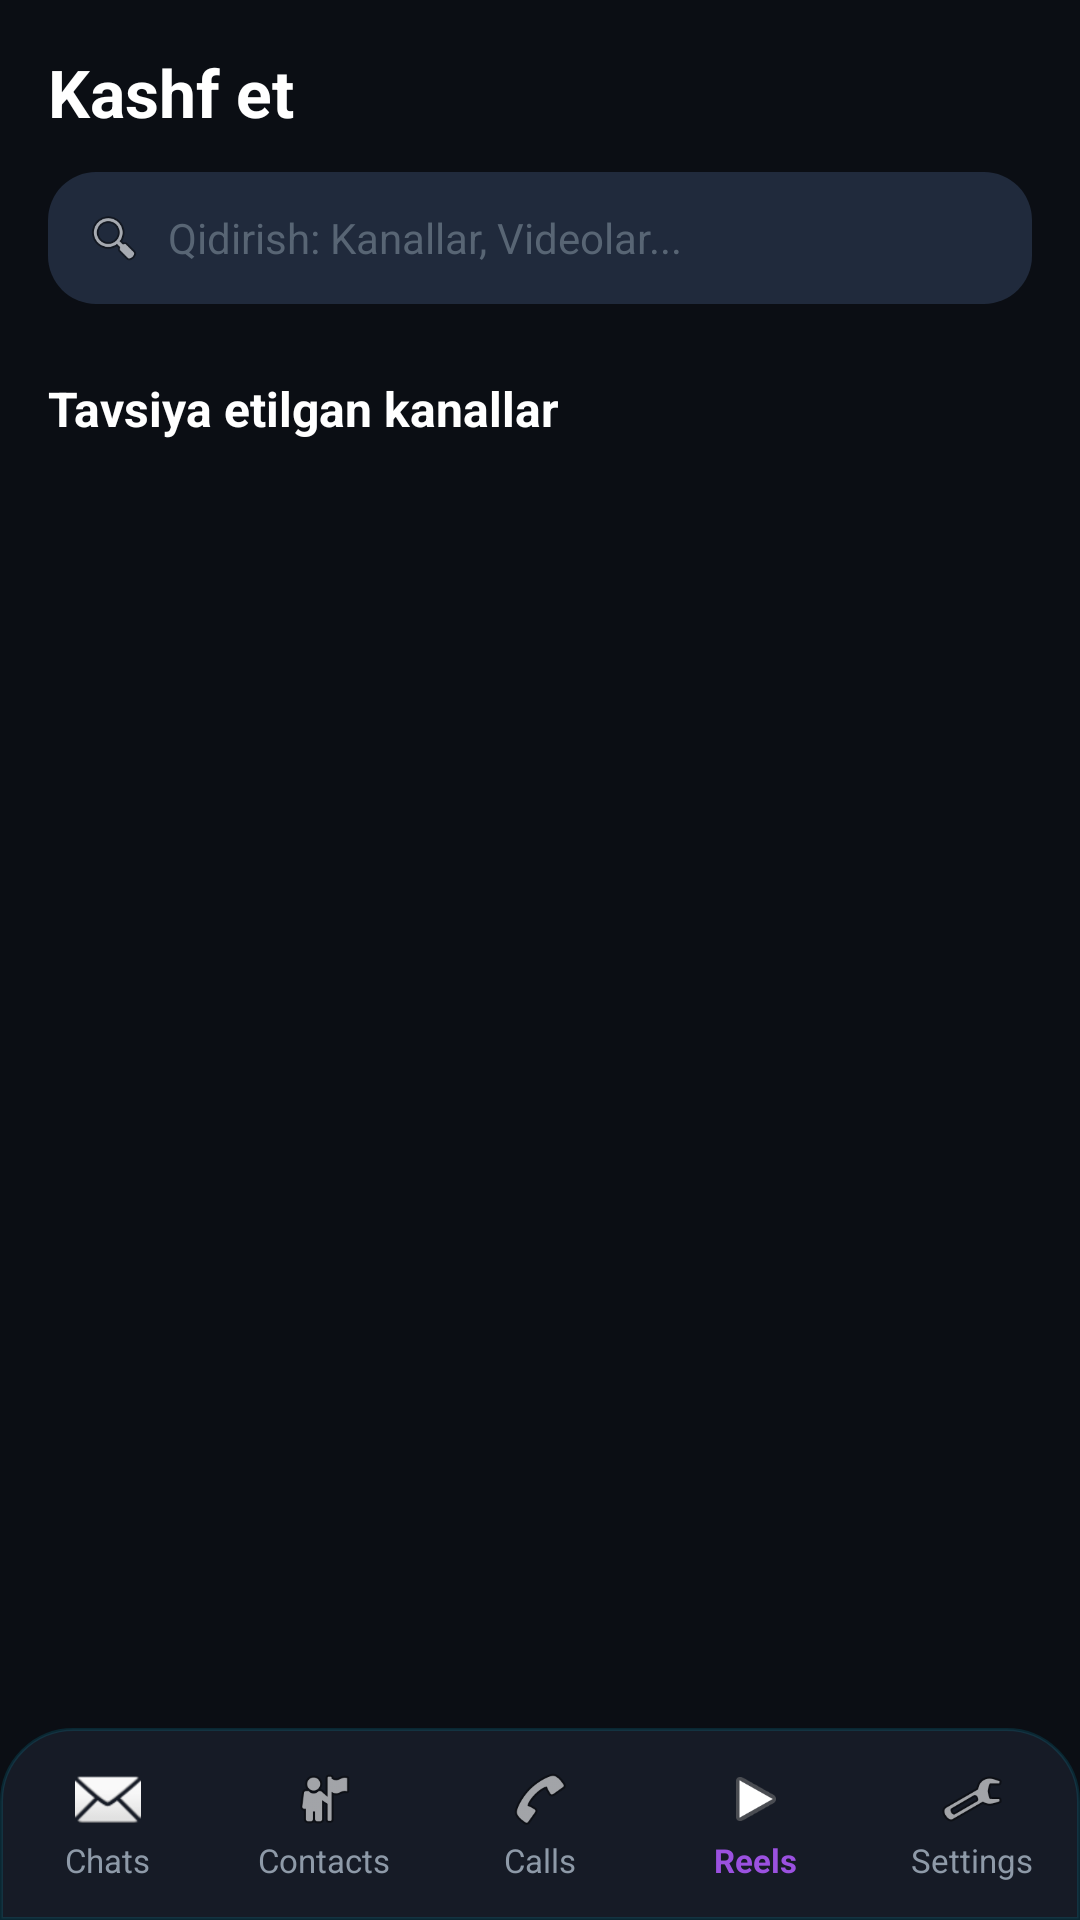

Icons on this 1080x1920 Android screen, each with its box as bbox=(x1, y1, x2, y2):
email: bbox=(75, 1776, 141, 1823)
manage: bbox=(944, 1778, 1000, 1820)
myplaces: bbox=(302, 1776, 347, 1822)
play: bbox=(736, 1777, 776, 1821)
search: bbox=(93, 217, 135, 260)
